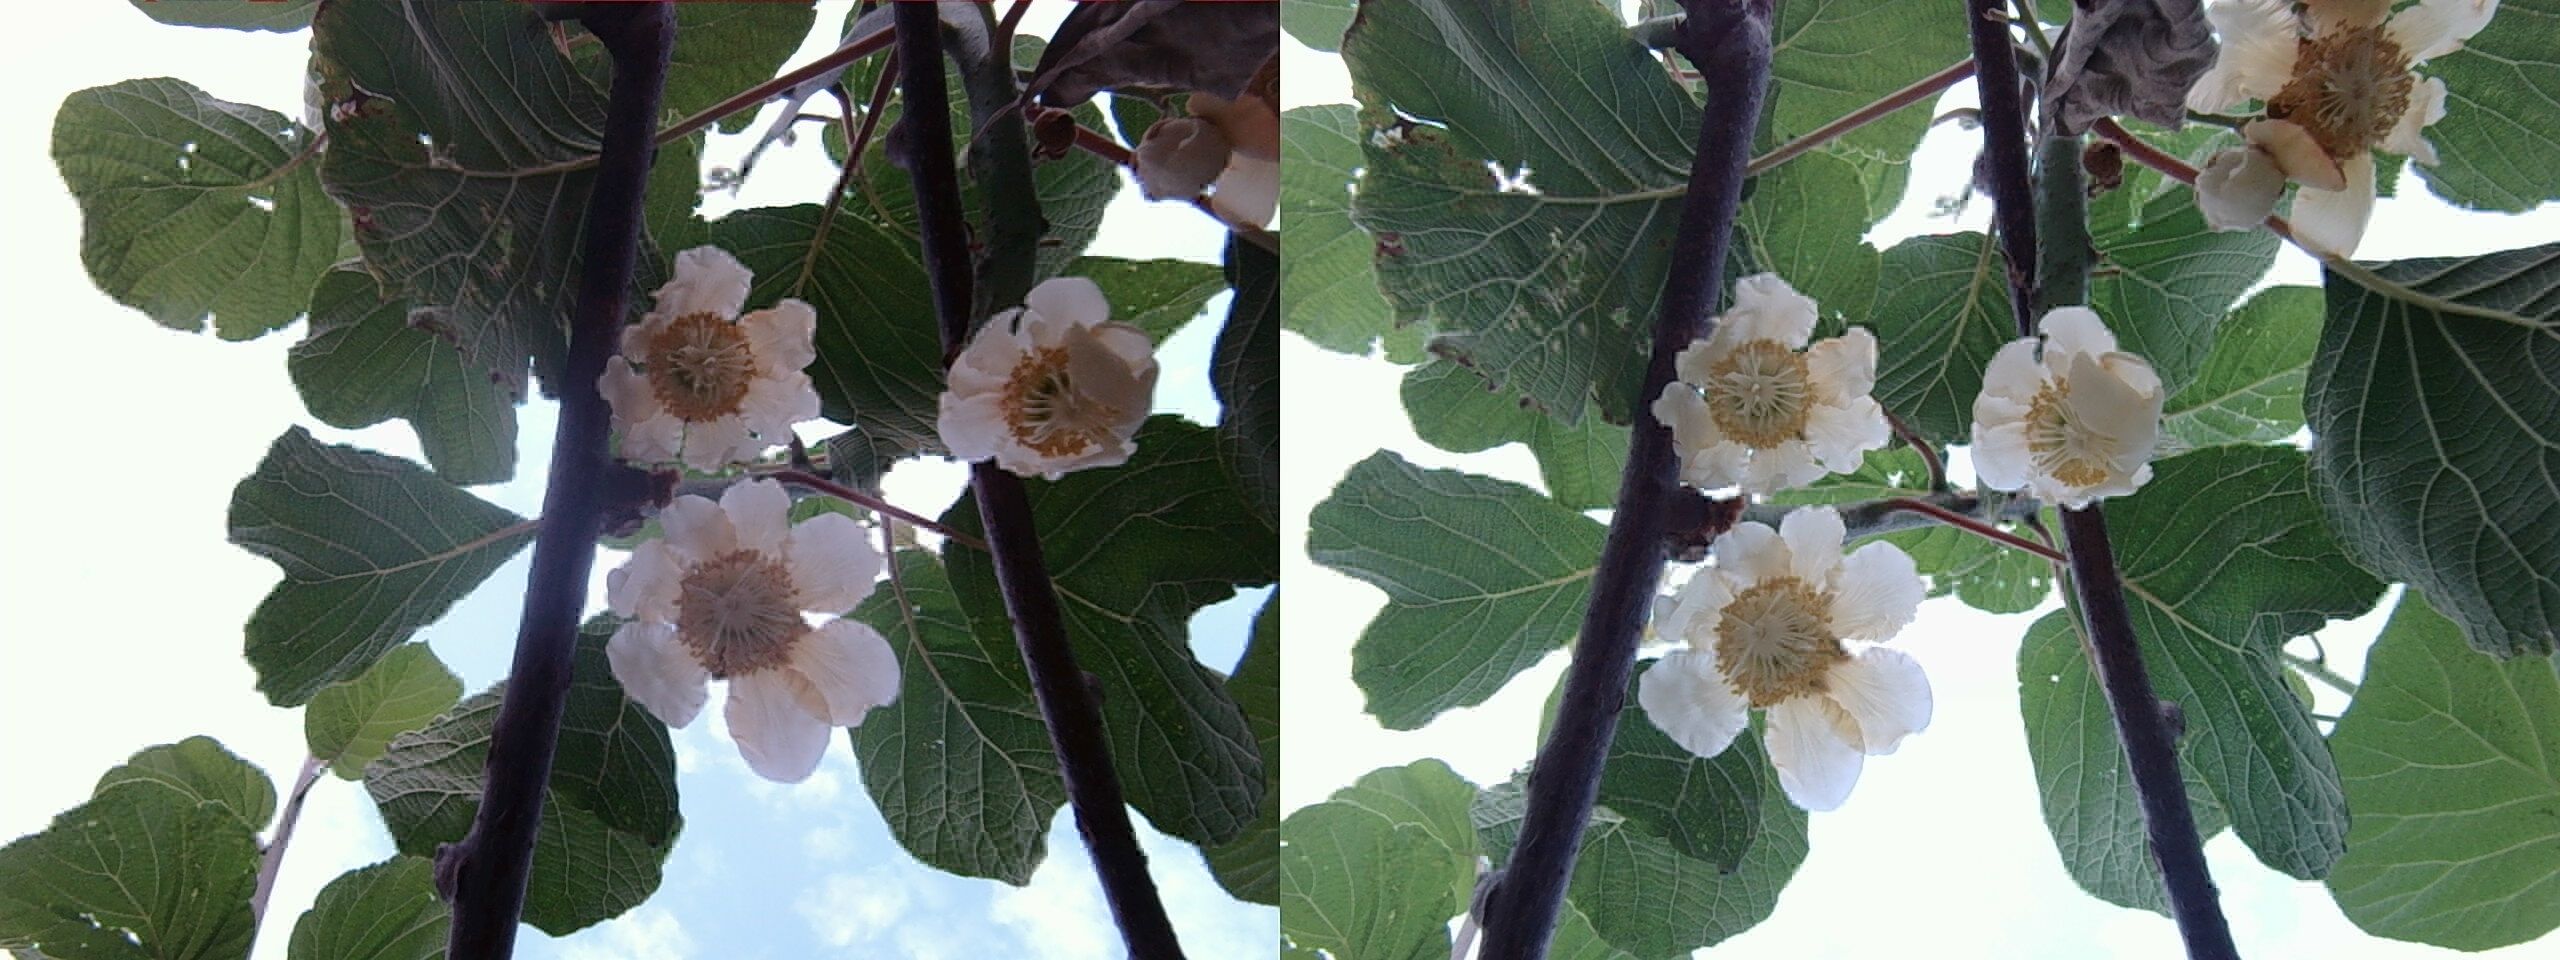flower: (1646, 501, 1933, 793), (601, 482, 887, 754), (1651, 261, 1889, 496), (593, 242, 818, 477), (2224, 0, 2464, 191), (936, 271, 1156, 478), (1966, 307, 2163, 504)
